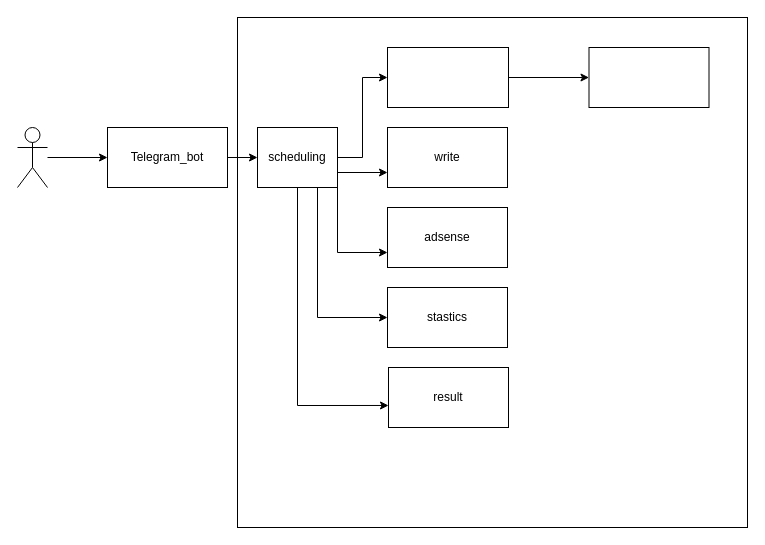
The diagram is 765 pixels wide and 545 high, and some of its shapes have lost their labels. Here are the shapes that lost their labels. From the top down, the centre of each, then its label:
At point (447, 77): "check".
At point (32, 157): "Actor".
